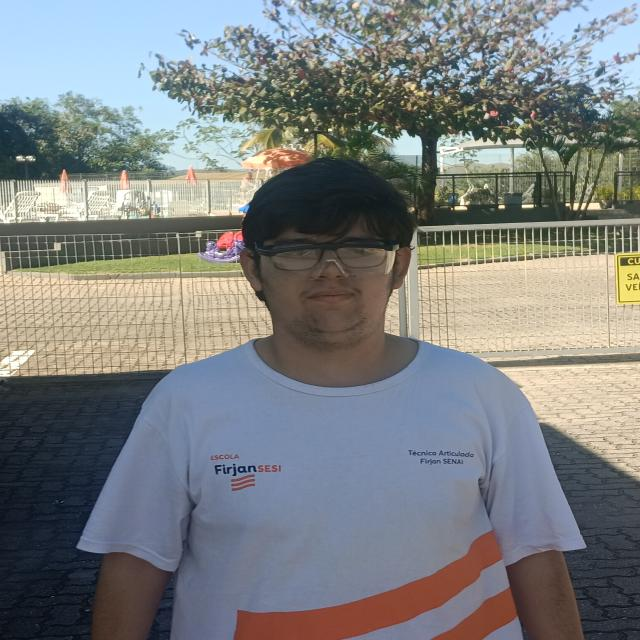oculos-epi: (255, 243, 400, 284)
